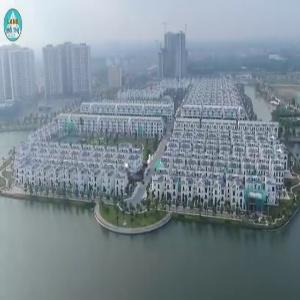drone: (116, 151, 160, 195)
